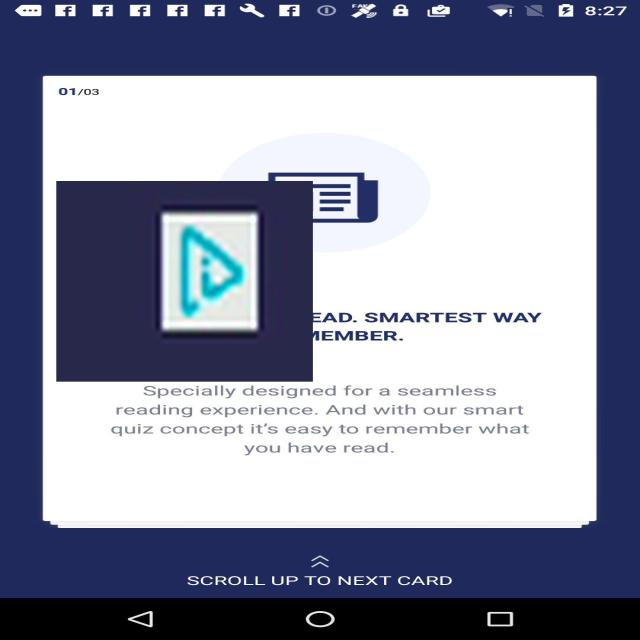sneaking: (56, 181, 313, 382)
